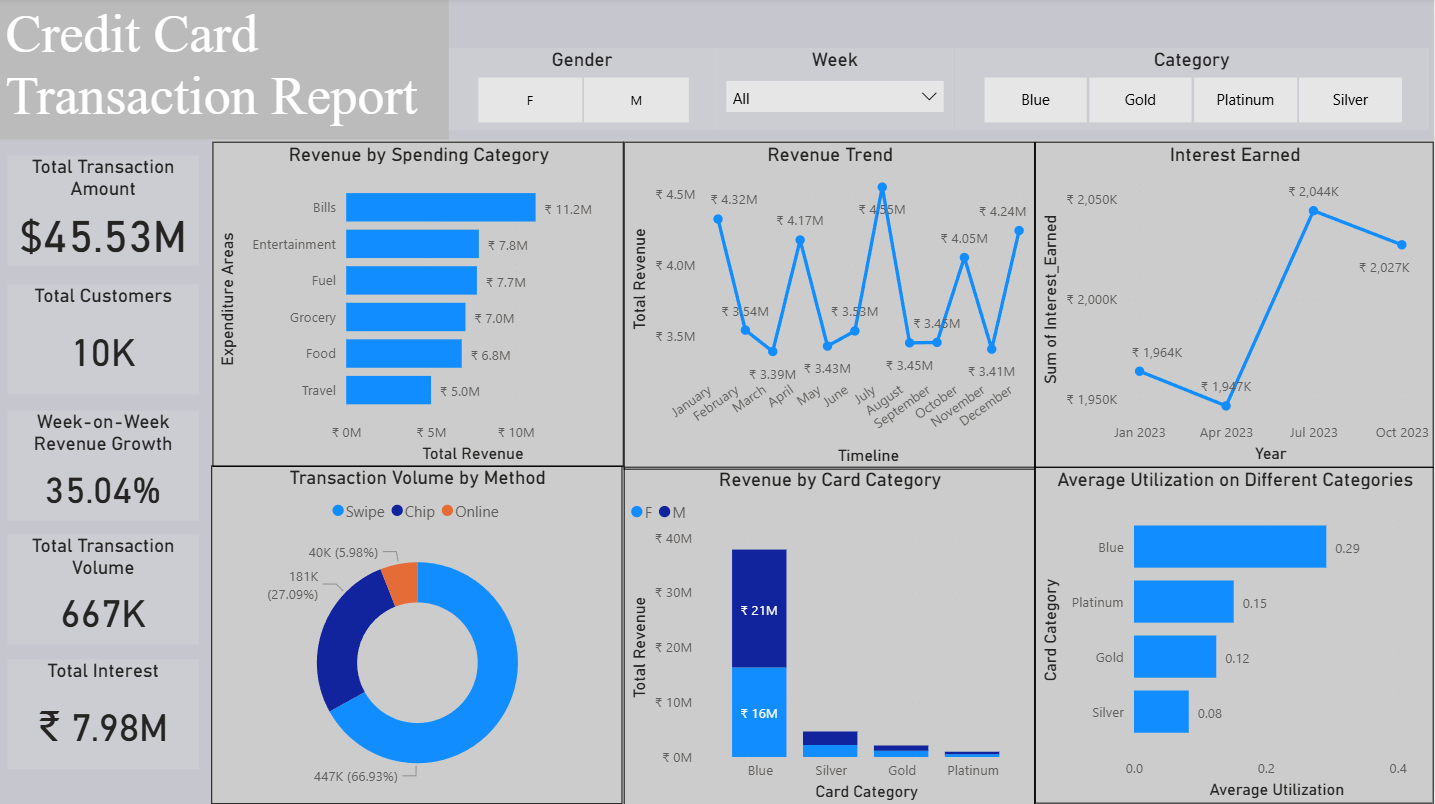

The dashboard page shown, as its layout file describes it:
{"tool":"powerbi","page":{"name":"Transaction Report","canvas":[1280,720],"ordinal":1},"visuals":[{"type":"shape","box":[0,126.7,189.4,593.8],"z":0},{"type":"shape","box":[400.9,0,879.6,126.7],"z":1000},{"type":"slicer","title":"Gender","fields":{"Values":["customer.Gender"]},"box":[400.8,45.1,238.2,73.2],"z":2000},{"type":"slicer","title":"Week","fields":{"Values":["CreditCard.Week_Num"]},"box":[639,45.1,213.8,73.2],"z":3000},{"type":"slicer","title":"Category","fields":{"Values":["CreditCard.Card_Category"]},"box":[852.8,45.1,423,73.2],"z":4000},{"type":"card","title":"Total Transaction Amount","fields":{"Values":["Sum(CreditCard.Total_Trans_Amt)"]},"box":[7,140.6,170.8,98.8],"z":5000},{"type":"card","title":"Total Customers","fields":{"Values":["Key_Measures.Total_Customers"]},"box":[7,255.6,170.8,98.8],"z":6000},{"type":"card","title":"Week-on-Week Revenue Growth","fields":{"Values":["Key_Measures.WoW_Revenue_Growth"]},"box":[7,368.3,170.8,98.8],"z":7000},{"type":"card","title":"Total Transaction Volume","fields":{"Values":["Key_Measures.Total_Trans_Vol"]},"box":[7,478.7,170.8,98.8],"z":10000},{"type":"card","title":"Total Interest","fields":{"Values":["Key_Measures.Total_Interest"]},"box":[7,590.3,170.8,98.8],"z":11000},{"type":"clusteredBarChart","title":"Revenue by Spending Category","fields":{"Category":["CreditCard.Exp Type"],"Y":["Key_Measures.Total_Revenue"]},"box":[189.4,127.8,367.2,290.5],"z":12000},{"type":"donutChart","title":"Transaction Volume by Method","fields":{"Category":["CreditCard.Use Chip"],"Y":["Key_Measures.Total_Trans_Vol"]},"box":[189,418,367,302],"z":13000},{"type":"lineChart","title":"Revenue Trend","fields":{"Y":["Key_Measures.Total_Revenue"],"Category":["Calendar.Date.Variation.Date Hierarchy.Year","Calendar.Date.Variation.Date Hierarchy.Quarter","Calendar.Date.Variation.Date Hierarchy.Month","Calendar.Date.Variation.Date Hierarchy.Day"]},"box":[557,128.4,367.3,292.5],"z":14000},{"type":"columnChart","title":"Revenue by Card Category","fields":{"Category":["CreditCard.Card_Category"],"Y":["Key_Measures.Total_Revenue"],"Series":["customer.Gender"]},"box":[556.6,418.3,367.2,302.1],"z":15000},{"type":"lineChart","title":"Interest Earned","fields":{"Category":["Calendar.Date.Variation.Date Hierarchy.Year","Calendar.Date.Variation.Date Hierarchy.Quarter","Calendar.Date.Variation.Date Hierarchy.Month","Calendar.Date.Variation.Date Hierarchy.Day"],"Y":["Sum(CreditCard.Interest_Earned)"]},"box":[924,128,356,291],"z":16000},{"type":"clusteredBarChart","title":"Average Utilization on Different Categories","fields":{"Category":["CreditCard.Card_Category"],"Y":["Avg(CreditCard.Avg_Utilization_Ratio)"]},"box":[924,419,356,301],"z":17000},{"type":"textbox","box":[0,0,400.9,126.7],"z":18001}]}

Visuals, with their boxes in screenshot pixels (x1, y1, x2, y2), scaled from the page's 1280x720 canvas onto the 1435x804 screenshot:
shape: select_region(0, 141, 212, 803)
shape: select_region(449, 0, 1434, 141)
"Gender" slicer: select_region(449, 50, 716, 132)
"Week" slicer: select_region(716, 50, 956, 132)
"Category" slicer: select_region(956, 50, 1430, 132)
"Total Transaction Amount" card: select_region(8, 157, 199, 267)
"Total Customers" card: select_region(8, 285, 199, 396)
"Week-on-Week Revenue Growth" card: select_region(8, 411, 199, 522)
"Total Transaction Volume" card: select_region(8, 535, 199, 645)
"Total Interest" card: select_region(8, 659, 199, 769)
"Revenue by Spending Category" clusteredBarChart: select_region(212, 143, 624, 467)
"Transaction Volume by Method" donutChart: select_region(212, 467, 623, 803)
"Revenue Trend" lineChart: select_region(624, 143, 1036, 470)
"Revenue by Card Category" columnChart: select_region(624, 467, 1036, 803)
"Interest Earned" lineChart: select_region(1036, 143, 1434, 468)
"Average Utilization on Different Categories" clusteredBarChart: select_region(1036, 468, 1434, 803)
textbox: select_region(0, 0, 449, 141)
